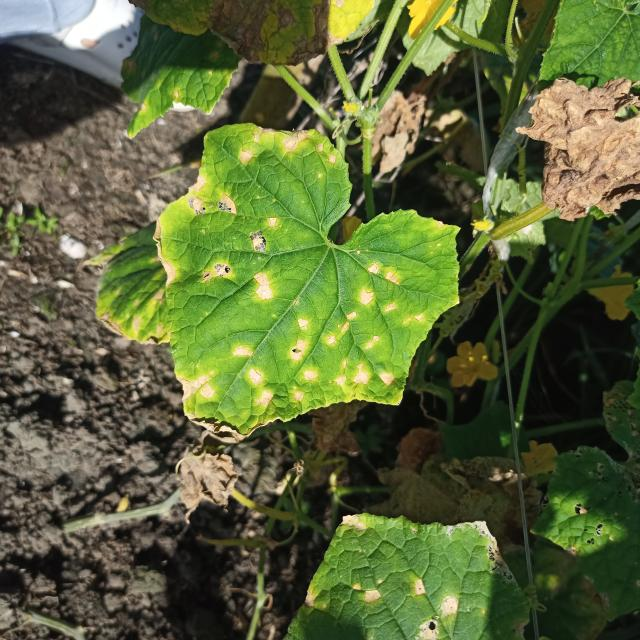disease_cucumber: (154, 123, 422, 424)
